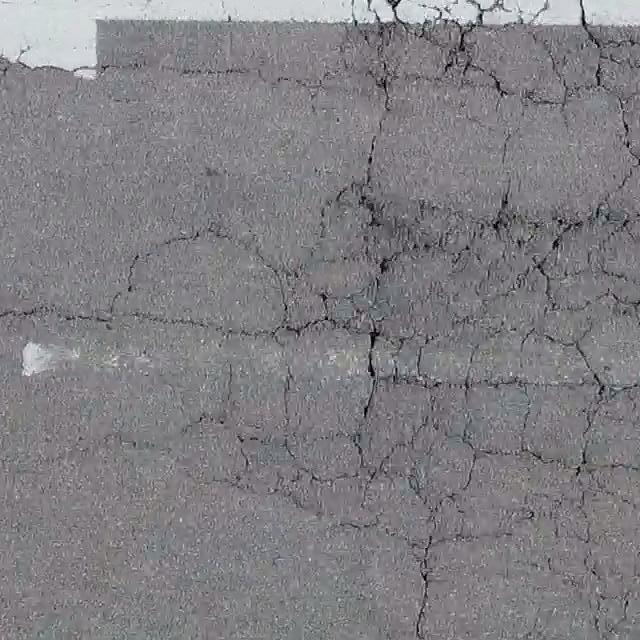GRIETA: (0, 56, 342, 90), (0, 305, 110, 321)
PIEL DE COCODRILO: (99, 0, 639, 639)
